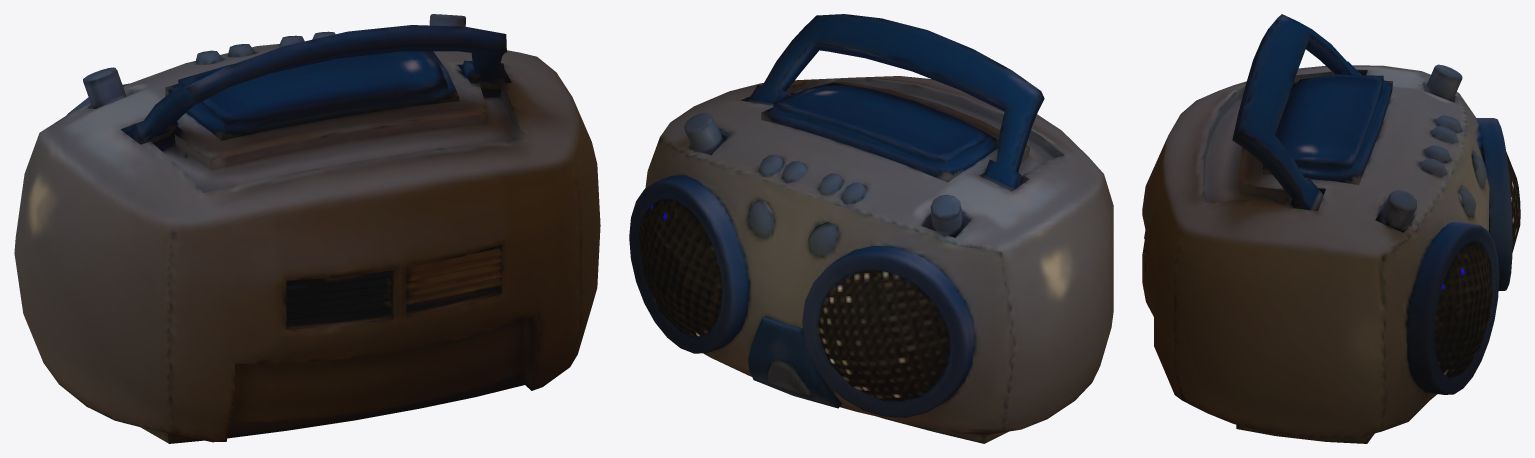
Rendered from G2_DM_lecteur_cd.gltf.
The picture shows the model from 3 angles, left to right: view 1: azimuth 30°, elevation 25°; view 2: azimuth 150°, elevation 25°; view 3: azimuth 270°, elevation 25°; orthographic projection. The views are drawn at different scales.
Parts seen in each view (by area): view 1: lecteur_cd; view 2: lecteur_cd; view 3: lecteur_cd.
Boxes of the visible parts, x1=… form: lecteur_cd: x1=14, y1=14, x2=600, y2=443; lecteur_cd: x1=629, y1=14, x2=1113, y2=443; lecteur_cd: x1=1142, y1=14, x2=1520, y2=443.
Bounding box in the file's own units: 0.3447 × 0.2432 × 0.2662.
Materials: 1 (1 with a texture image).
